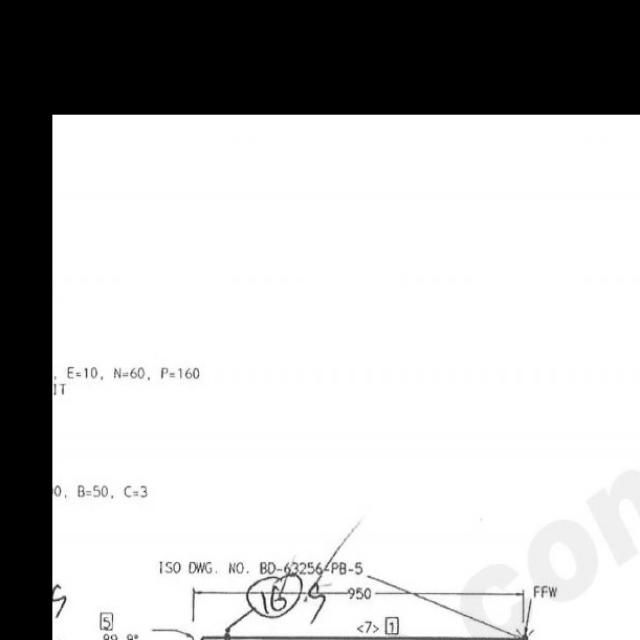Item number: (384, 614, 401, 636), (99, 609, 114, 632)
other: (54, 358, 210, 393)
